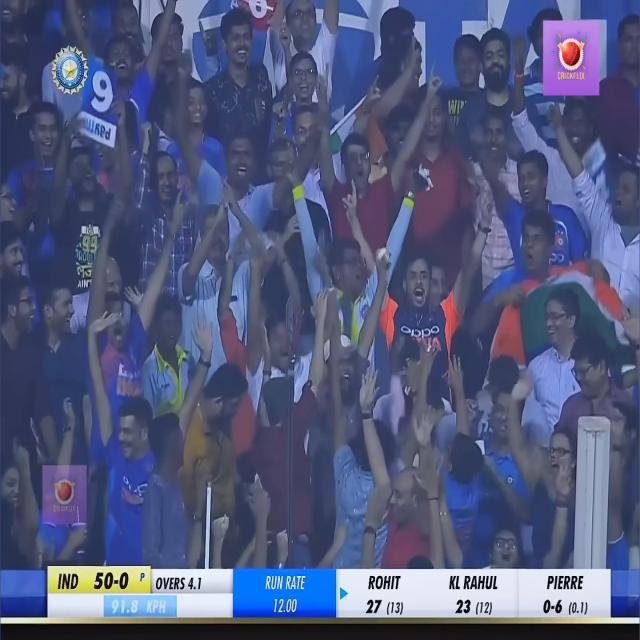partially_visible: (70, 102, 124, 154)
